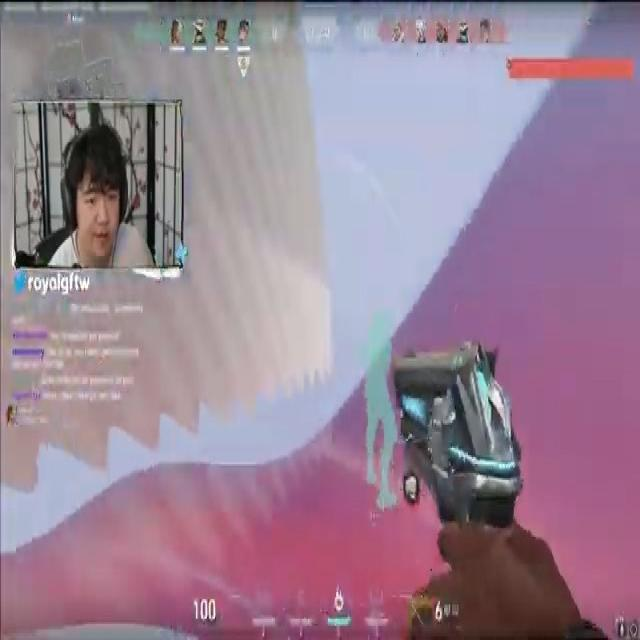ally behind wall: (350, 301, 402, 508)
